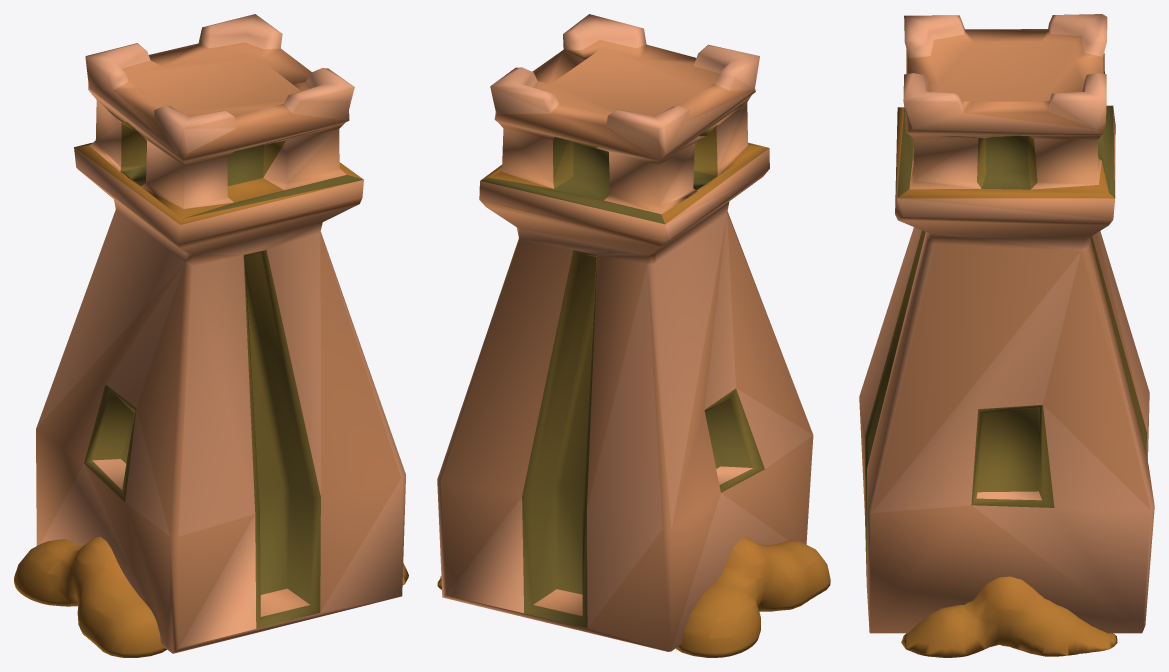
The model's file is B TorreDePiedraMesh.fbx.
The picture shows the model from 3 angles, left to right: view 1: azimuth 30°, elevation 25°; view 2: azimuth 150°, elevation 25°; view 3: azimuth 270°, elevation 25°; orthographic projection. The views are drawn at different scales.
Parts seen in each view (by area): view 1: TorreDePiedra; view 2: TorreDePiedra; view 3: TorreDePiedra.
Boxes of the visible parts, x1,y1,x2,y2 form: TorreDePiedra: (14, 14, 408, 657); TorreDePiedra: (437, 14, 830, 657); TorreDePiedra: (859, 14, 1154, 657).
Bounding box in the file's own units: 472 × 734 × 373.
Materials: 1 (1 with a texture image).
